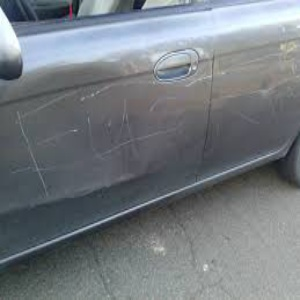door_scratch: (11, 86, 296, 197)
